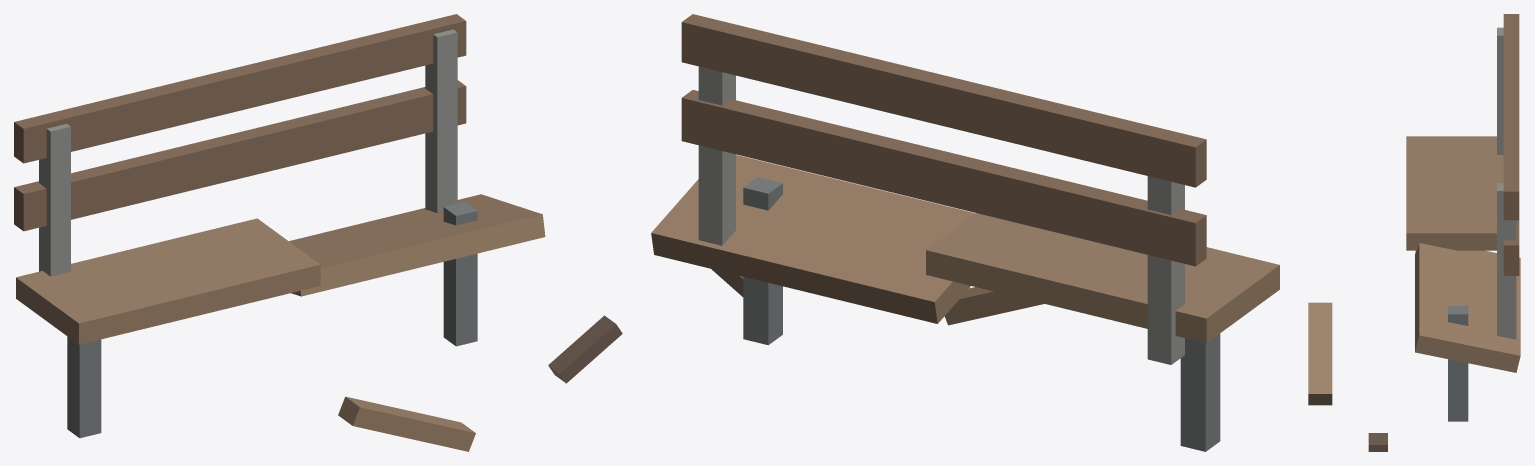
File: Broken_Waiting_Bench.glb
The picture shows the model from 3 angles, left to right: view 1: azimuth 30°, elevation 25°; view 2: azimuth 150°, elevation 25°; view 3: azimuth 270°, elevation 25°; orthographic projection. The views are drawn at different scales.
Visible parts, largest first — view 1: Broken_Waiting_Bench_piece_000, Broken_Waiting_Bench_piece_004, Broken_Waiting_Bench_piece_005, Broken_Waiting_Bench_piece_001, Broken_Waiting_Bench_piece_007, Broken_Waiting_Bench_piece_006, Broken_Waiting_Bench_piece_008, Broken_Waiting_Bench_piece_003, Broken_Waiting_Bench_piece_002, Broken_Waiting_Bench_piece_009; view 2: Broken_Waiting_Bench_piece_001, Broken_Waiting_Bench_piece_004, Broken_Waiting_Bench_piece_005, Broken_Waiting_Bench_piece_000, Broken_Waiting_Bench_piece_006, Broken_Waiting_Bench_piece_007, Broken_Waiting_Bench_piece_002, Broken_Waiting_Bench_piece_003, Broken_Waiting_Bench_piece_008; view 3: Broken_Waiting_Bench_piece_000, Broken_Waiting_Bench_piece_001, Broken_Waiting_Bench_piece_005, Broken_Waiting_Bench_piece_008, Broken_Waiting_Bench_piece_007, Broken_Waiting_Bench_piece_003, Broken_Waiting_Bench_piece_006, Broken_Waiting_Bench_piece_004, Broken_Waiting_Bench_piece_009.
Boxes of the visible parts, bbox=[...] form: Broken_Waiting_Bench_piece_000: bbox=[16, 218, 320, 344]; Broken_Waiting_Bench_piece_004: bbox=[14, 80, 466, 231]; Broken_Waiting_Bench_piece_005: bbox=[14, 14, 466, 163]; Broken_Waiting_Bench_piece_001: bbox=[289, 194, 545, 296]; Broken_Waiting_Bench_piece_007: bbox=[425, 29, 457, 212]; Broken_Waiting_Bench_piece_006: bbox=[39, 124, 70, 276]; Broken_Waiting_Bench_piece_008: bbox=[338, 396, 475, 451]; Broken_Waiting_Bench_piece_003: bbox=[443, 202, 477, 346]; Broken_Waiting_Bench_piece_002: bbox=[67, 336, 101, 438]; Broken_Waiting_Bench_piece_009: bbox=[548, 315, 622, 383]; Broken_Waiting_Bench_piece_001: bbox=[651, 155, 975, 323]; Broken_Waiting_Bench_piece_004: bbox=[681, 90, 1206, 266]; Broken_Waiting_Bench_piece_005: bbox=[681, 14, 1206, 187]; Broken_Waiting_Bench_piece_000: bbox=[926, 213, 1279, 343]; Broken_Waiting_Bench_piece_006: bbox=[1147, 176, 1184, 364]; Broken_Waiting_Bench_piece_007: bbox=[698, 66, 735, 245]; Broken_Waiting_Bench_piece_002: bbox=[1180, 333, 1220, 451]; Broken_Waiting_Bench_piece_003: bbox=[743, 177, 782, 345]; Broken_Waiting_Bench_piece_008: bbox=[944, 287, 1044, 325]; Broken_Waiting_Bench_piece_000: bbox=[1406, 136, 1503, 250]; Broken_Waiting_Bench_piece_001: bbox=[1415, 243, 1520, 372]; Broken_Waiting_Bench_piece_005: bbox=[1503, 14, 1519, 220]; Broken_Waiting_Bench_piece_008: bbox=[1308, 302, 1332, 405]; Broken_Waiting_Bench_piece_007: bbox=[1497, 183, 1516, 339]; Broken_Waiting_Bench_piece_003: bbox=[1448, 305, 1468, 421]; Broken_Waiting_Bench_piece_006: bbox=[1497, 27, 1503, 154]; Broken_Waiting_Bench_piece_004: bbox=[1503, 220, 1519, 275]; Broken_Waiting_Bench_piece_009: bbox=[1368, 433, 1387, 451].
Bounding box in the file's own units: 2.05 × 1.19 × 0.8785.
